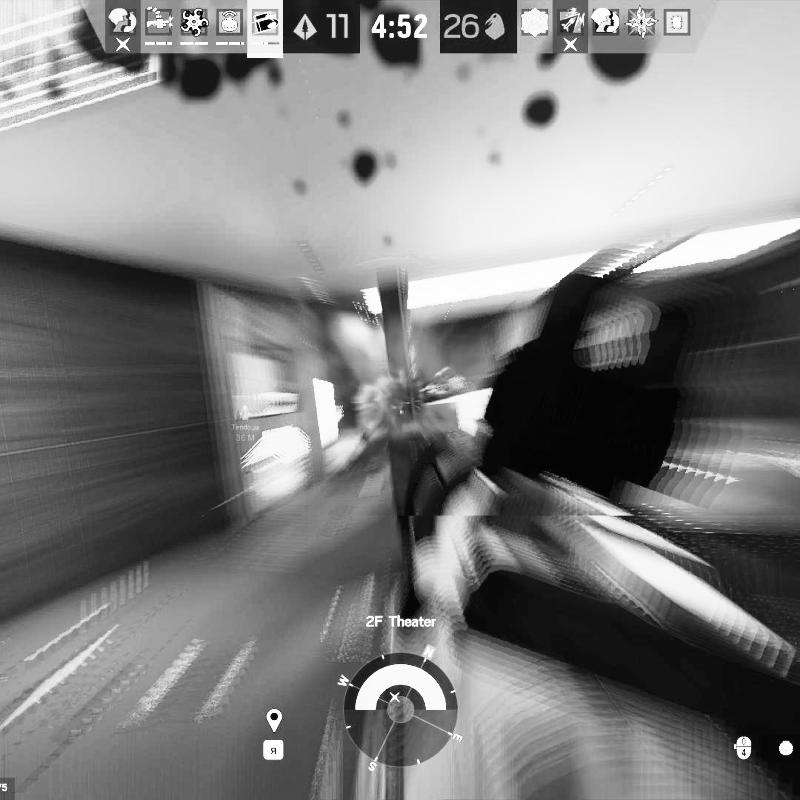Character: (419, 367, 470, 400)
